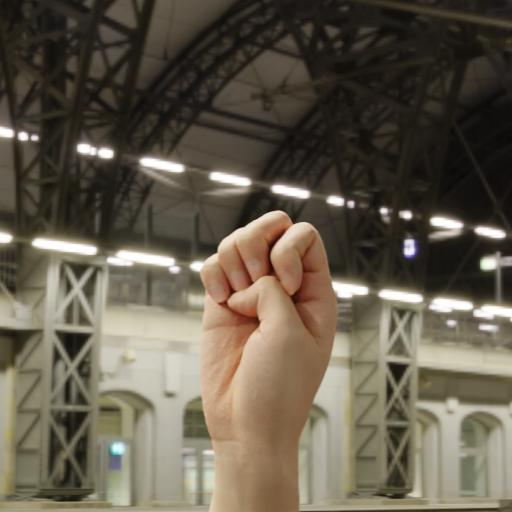E: (173, 186, 381, 452)
